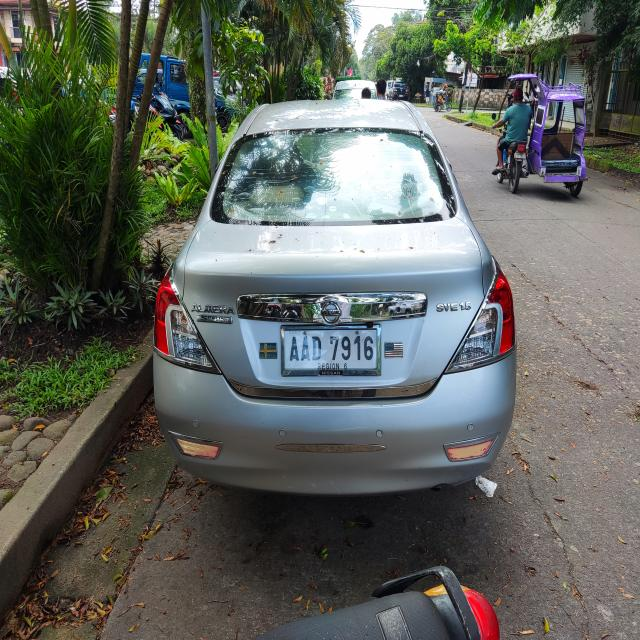plate: (280, 323, 382, 377)
